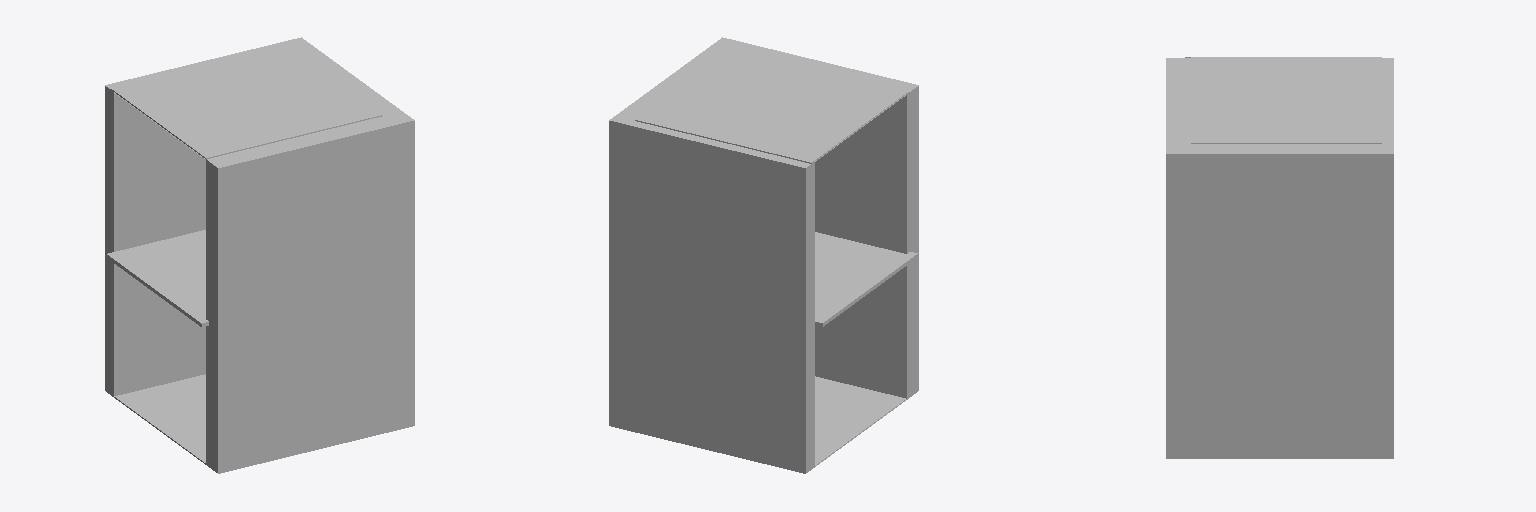
File: shelf_1.obj
The picture shows the model from 3 angles: view 1: azimuth 30°, elevation 25°; view 2: azimuth 150°, elevation 25°; view 3: azimuth 270°, elevation 25°; orthographic projection.
Parts seen in each view (by area): view 1: Cube; view 2: Cube; view 3: Cube.
Boxes of the visible parts, <box> form: Cube: <box>105,37,414,473</box>; Cube: <box>609,37,918,473</box>; Cube: <box>1166,57,1393,458</box>.
Bounding box in the file's own units: 2.08 × 2.98 × 2.